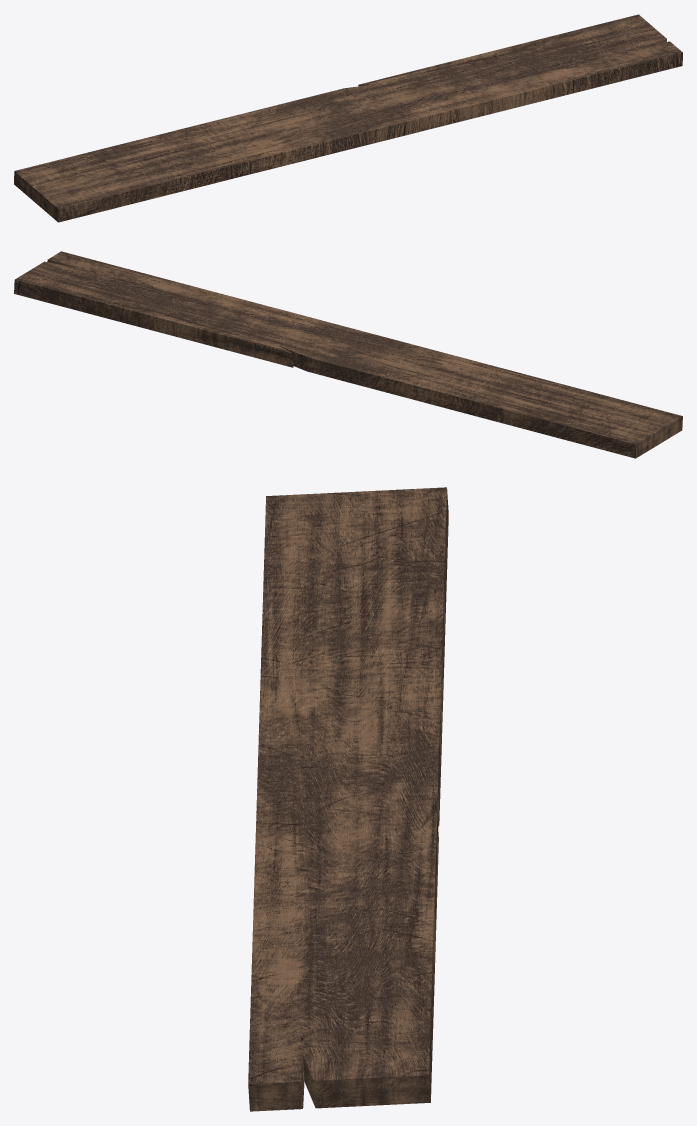
The model's file is Wood2.fbx.
3 renders of one model, top to bottom at view 1: azimuth 30°, elevation 25°; view 2: azimuth 150°, elevation 25°; view 3: azimuth 270°, elevation 25°, orthographic. The views are drawn at different scales.
Visible parts, largest first — view 1: Plane.017; view 2: Plane.017; view 3: Plane.017.
Part boxes in pixels (x1,y1,x2,y2): Plane.017: [14, 14, 682, 222]; Plane.017: [14, 251, 682, 458]; Plane.017: [248, 487, 448, 1111].
Bounding box in the file's own units: 199 × 8.33 × 27.79.
1 material, 1 textured.
